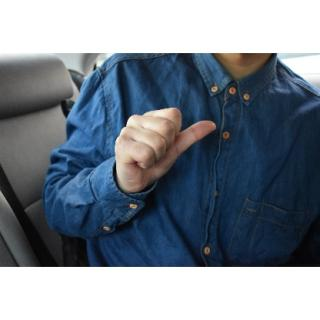WAW: (108, 102, 221, 193)
